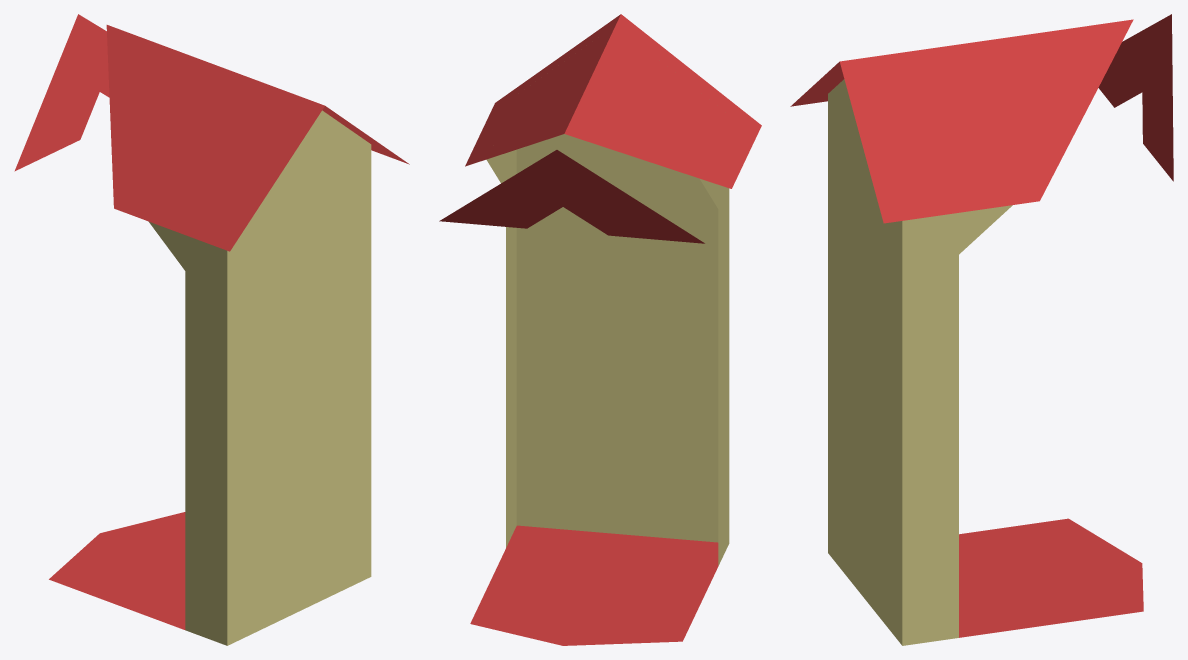
The picture shows the model from 3 angles, left to right: view 1: azimuth 30°, elevation 25°; view 2: azimuth 150°, elevation 25°; view 3: azimuth 270°, elevation 25°; orthographic projection. The views are drawn at different scales.
Size of the model in its own units: 6.3 by 6.45 by 10.12.
